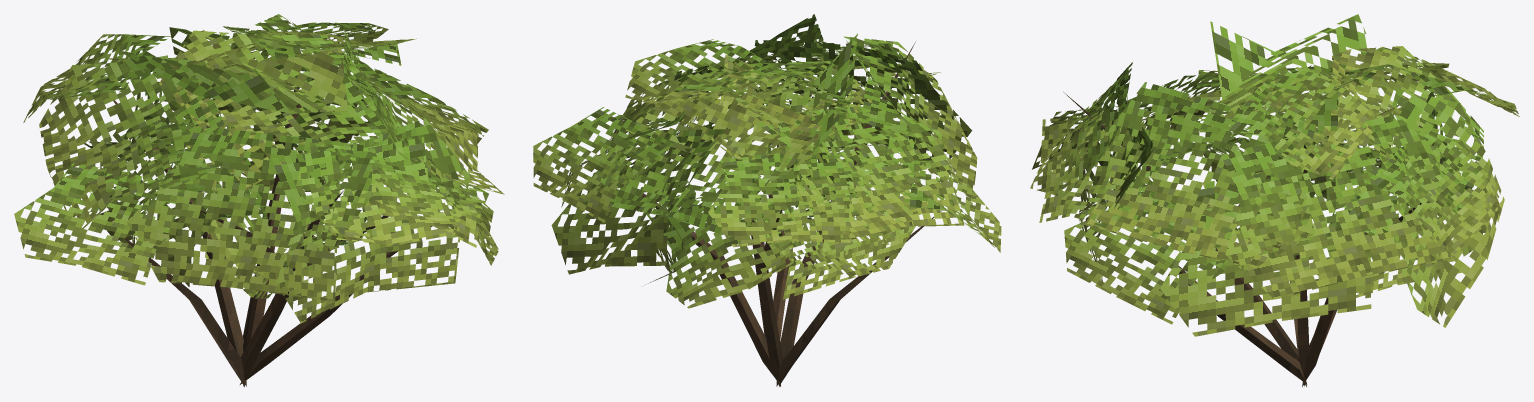
The model's file is PlumBush.fbx.
3 views of the same model, side by side, from view 1: azimuth 30°, elevation 25°; view 2: azimuth 150°, elevation 25°; view 3: azimuth 270°, elevation 25° (orthographic). The views are drawn at different scales.
Parts seen in each view (by area): view 1: PlumBush; view 2: PlumBush; view 3: PlumBush.
Part boxes in pixels (<box>): PlumBush: <box>14,14,504,387</box>; PlumBush: <box>533,14,1001,386</box>; PlumBush: <box>1030,14,1519,387</box>.
Size of the model in its own units: 181 by 142 by 181.
Materials: 2 (2 with a texture image).
